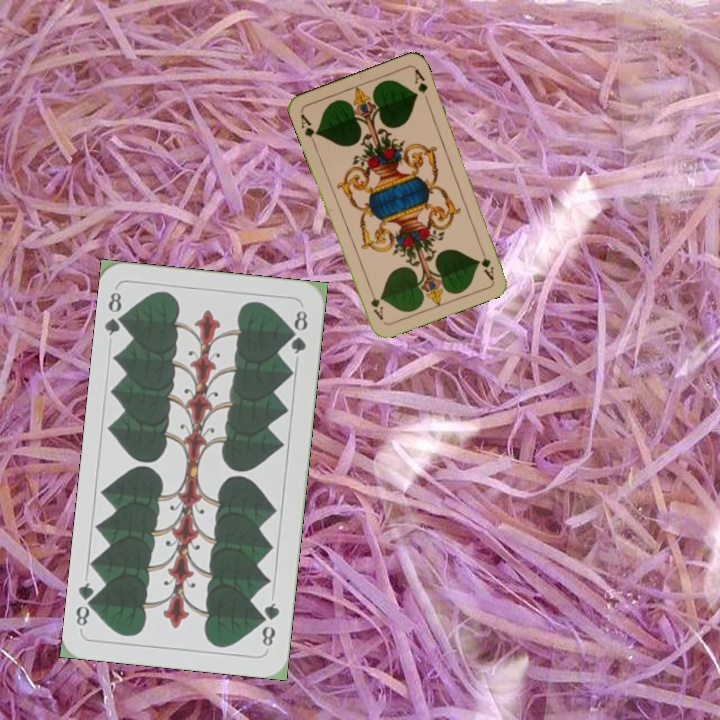G8: (101, 288, 130, 338), (257, 598, 282, 649)
GA: (296, 110, 321, 148), (475, 243, 497, 282)
